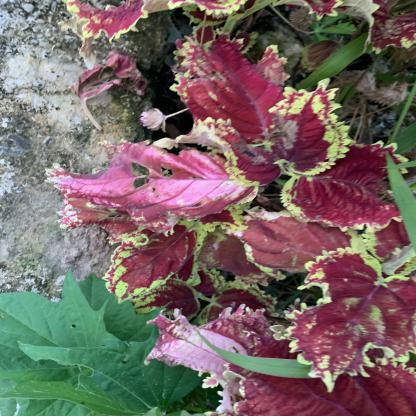Bunga Coleus: (66, 11, 413, 270), (148, 253, 412, 412)
